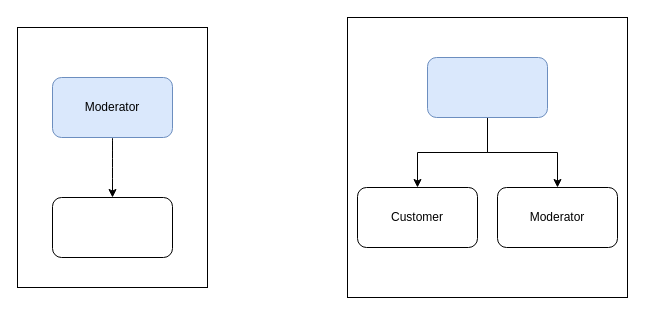
The diagram is 645 pixels wide and 315 high, and some of its shapes have lost their labels. The shapes that lost their labels are listed below. From the top down, each one's box as (x1, y1, x2, y2) in pixels, then its label:
(426, 56, 548, 118): Appointment
(52, 196, 172, 258): Schedule
